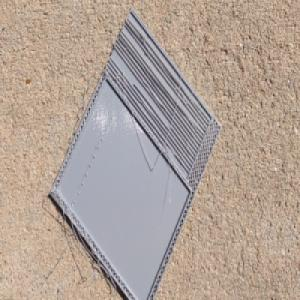PlasticPart: (45, 5, 221, 300)
